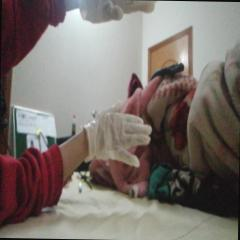gloved: (87, 99, 151, 168), (79, 0, 158, 25)
